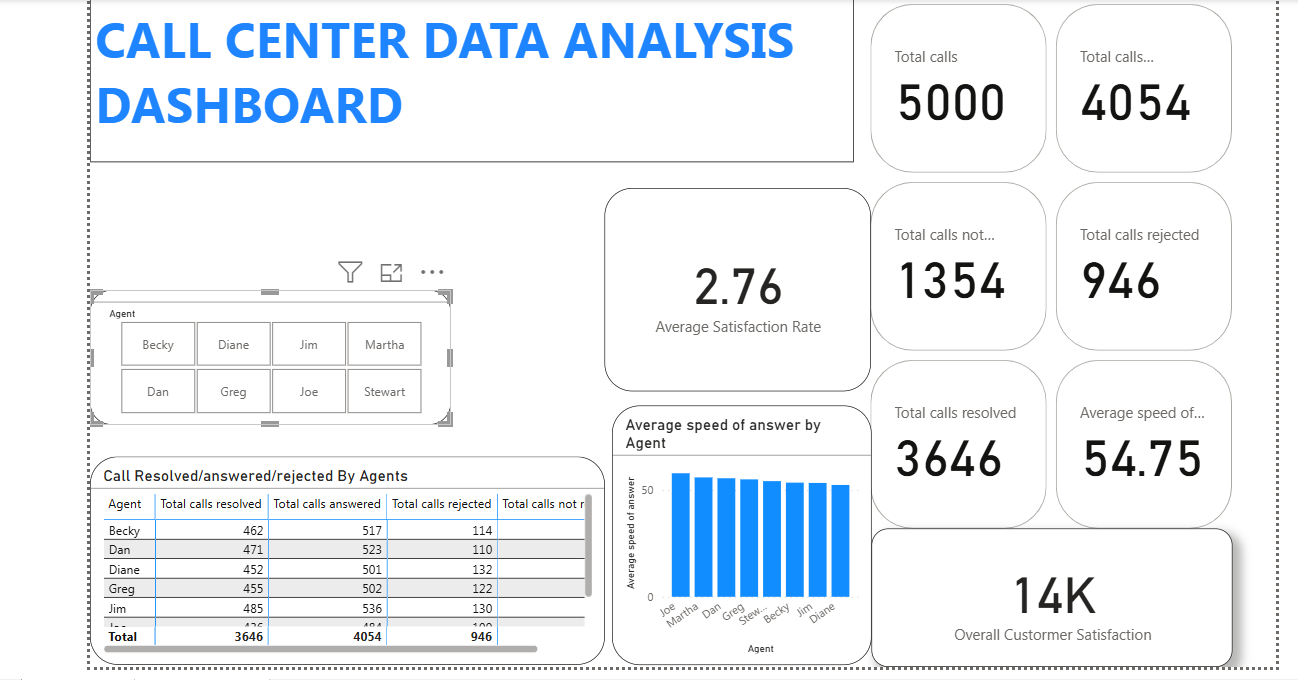

Layout of this report page (visuals, bound fields, positions):
{"tool":"powerbi","page":{"name":"Page 1","canvas":[1280,720],"ordinal":0},"visuals":[{"type":"cardVisual","fields":{"Data":["Measure Table.Total calls","Measure Table.Total calls answered","Measure Table.Total calls not resolved","Measure Table.Total calls rejected","Measure Table.Total calls resolved","Measure Table.Average speed of answer"]},"box":[837.2,0,400.6,578.3],"z":0},{"type":"slicer","fields":{"Values":["Call Center.Agent"]},"box":[0,313.7,389.3,145.5],"z":1000},{"type":"card","fields":{"Values":["Measure Table.Overall Custormer Satisfaction"]},"box":[842.8,570.7,389.3,149.3],"z":2000},{"type":"pivotTable","title":"Call Resolved/answered/rejected By Agents","fields":{"Rows":["Call Center.Agent"],"Values":["Measure Table.Total calls resolved","Measure Table.Total calls answered","Measure Table.Total calls rejected","Measure Table.Total calls not resolved"]},"box":[0,493.2,555.6,224.9],"z":3000},{"type":"columnChart","fields":{"Category":["Call Center.Agent"],"Y":["Measure Table.Average speed of answer"]},"box":[563.2,438.4,279.7,279.7],"z":4000},{"type":"card","fields":{"Values":["Measure Table.Average Satisfaction Rate"]},"box":[555.6,204.1,287.2,219.2],"z":5000},{"type":"textbox","box":[0,0,823.9,175.7],"z":6000}]}

Visuals, with their boxes on the page's 1280x720 design canvas (x1, y1, x2, y2). These are canvas units, not pixel positions in the 1298x680 screenshot, which may show the page scaled, cropped or inside an application window:
cardVisual - Measure Table.Total calls x Measure Table.Total calls answered: 837:0:1238:578
slicer - Call Center.Agent: 0:314:389:459
card - Measure Table.Overall Custormer Satisfaction: 843:571:1232:720
"Call Resolved/answered/rejected By Agents" pivotTable: 0:493:556:718
columnChart - Call Center.Agent x Measure Table.Average speed of answer: 563:438:843:718
card - Measure Table.Average Satisfaction Rate: 556:204:843:423
textbox: 0:0:824:176
